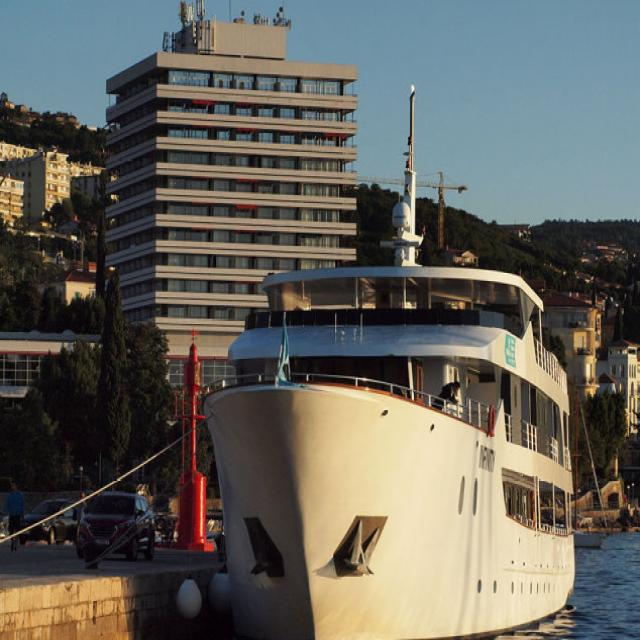cruises: (198, 252, 584, 640)
